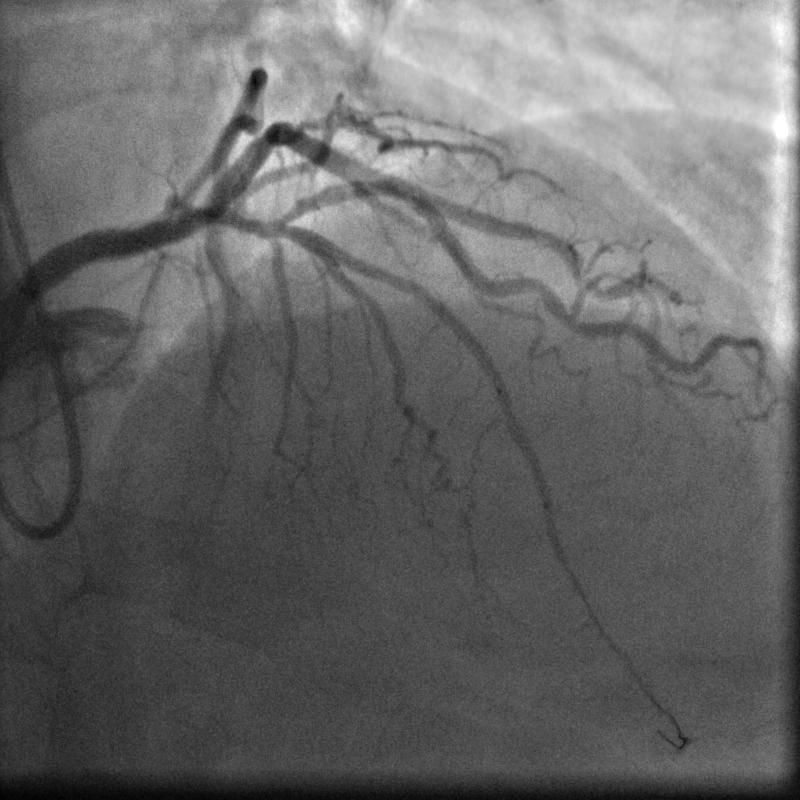Stenosis: (381, 172, 427, 211)
